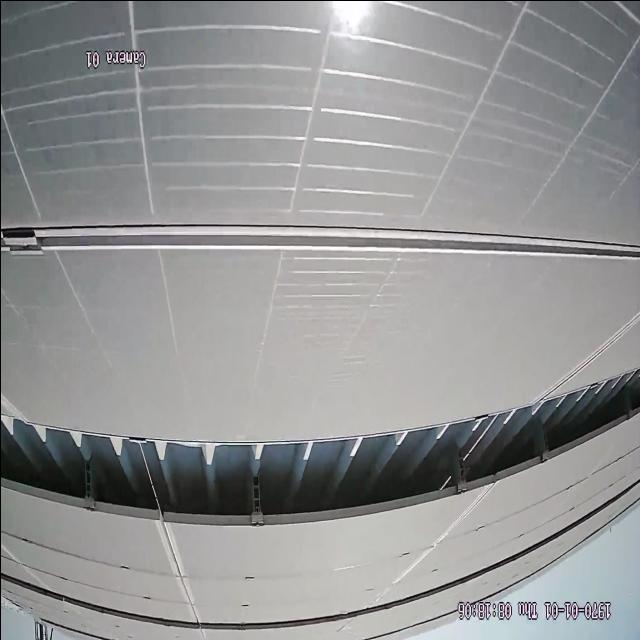interior panel: (0, 220, 638, 258), (393, 486, 492, 584), (539, 308, 640, 393), (154, 524, 202, 619), (2, 393, 22, 415)
outher panel: (0, 368, 639, 525)
